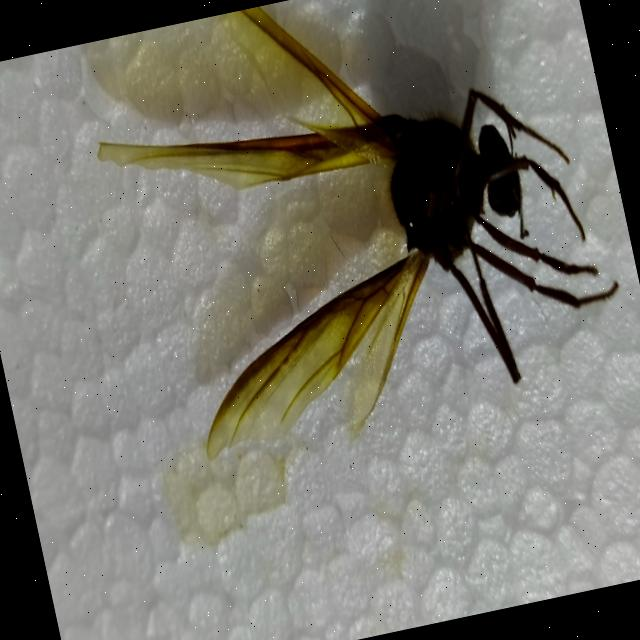Dead-Female-Alate: (73, 0, 634, 472)
